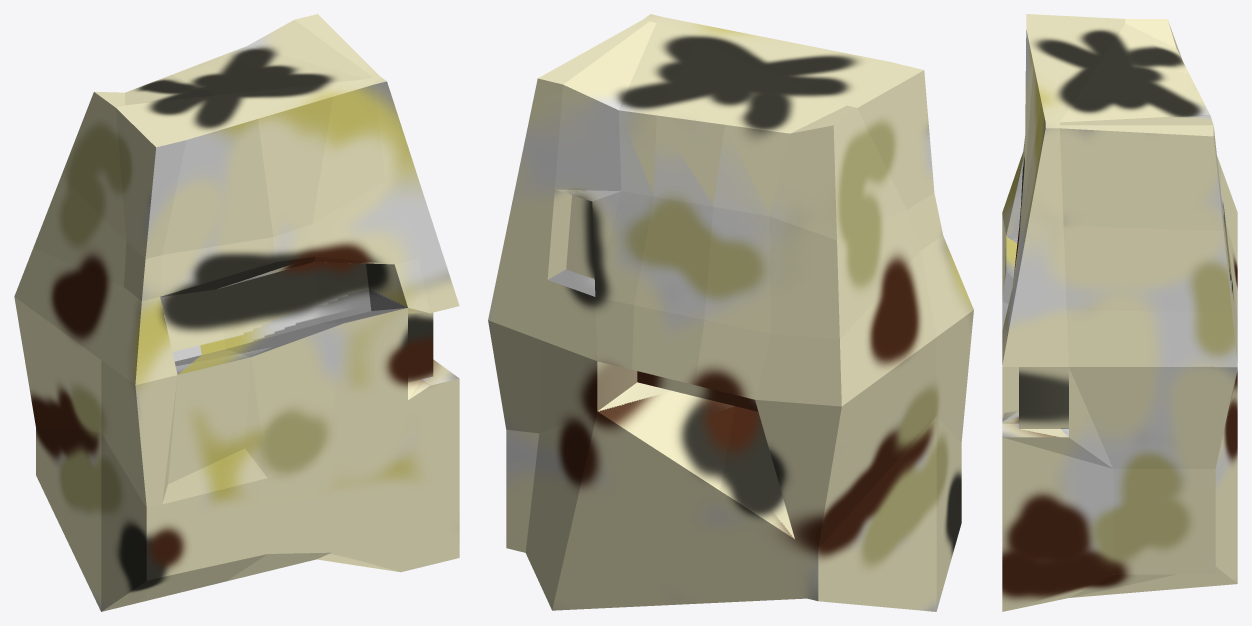
The model's file is cavity.glb.
3 views of the same model, side by side, from view 1: azimuth 30°, elevation 25°; view 2: azimuth 150°, elevation 25°; view 3: azimuth 270°, elevation 25° (orthographic). The views are drawn at different scales.
Visible parts, largest first — view 1: Cube; view 2: Cube; view 3: Cube.
Part boxes in pixels (bbox=[...]): Cube: bbox=[14, 14, 459, 611]; Cube: bbox=[488, 14, 973, 611]; Cube: bbox=[1002, 14, 1237, 611].
Size of the model in its own units: 1.23 by 1.71 by 0.7943.
1 material, 1 textured.
